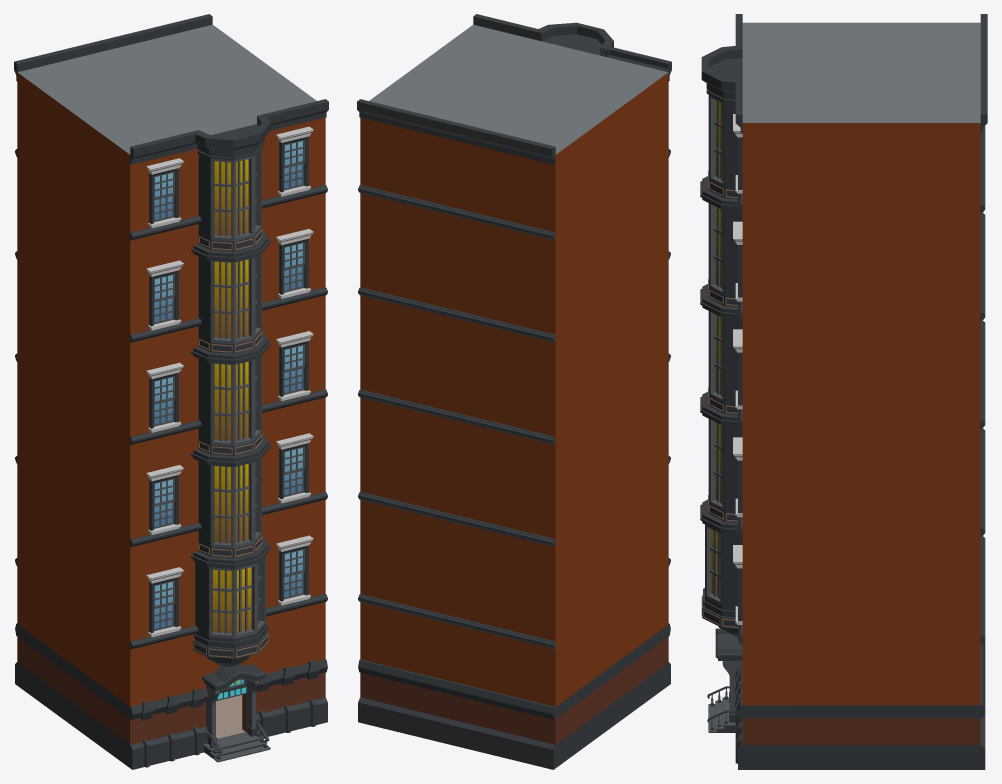
The model's file is SM_Buildings_House_07_V2.fbx.
The picture shows the model from 3 angles, left to right: view 1: azimuth 30°, elevation 25°; view 2: azimuth 150°, elevation 25°; view 3: azimuth 270°, elevation 25°; orthographic projection. The views are drawn at different scales.
Visible parts, largest first — view 1: SM_Buildings_House_07_V2; view 2: SM_Buildings_House_07_V2; view 3: SM_Buildings_House_07_V2.
Part boxes in pixels (x1,y1,x2,y2): SM_Buildings_House_07_V2: [14, 14, 328, 769]; SM_Buildings_House_07_V2: [357, 14, 671, 769]; SM_Buildings_House_07_V2: [700, 14, 987, 769].
Size of the model in its own units: 10 by 30.4 by 12.08.
